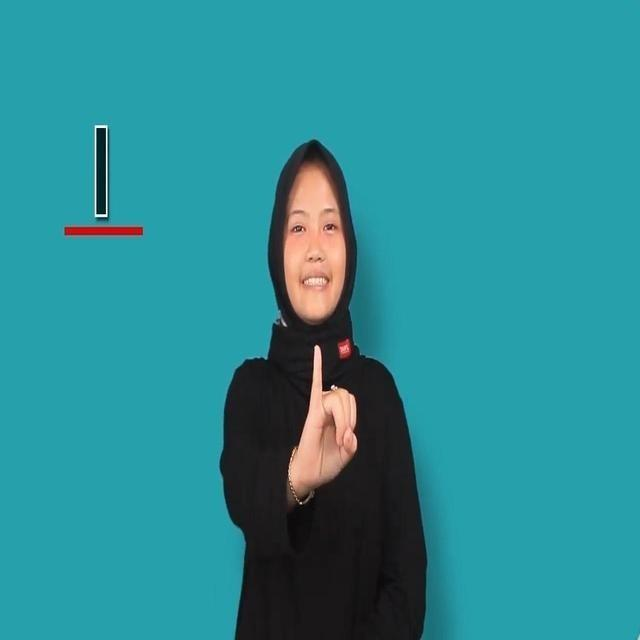I: (282, 336, 368, 492)
